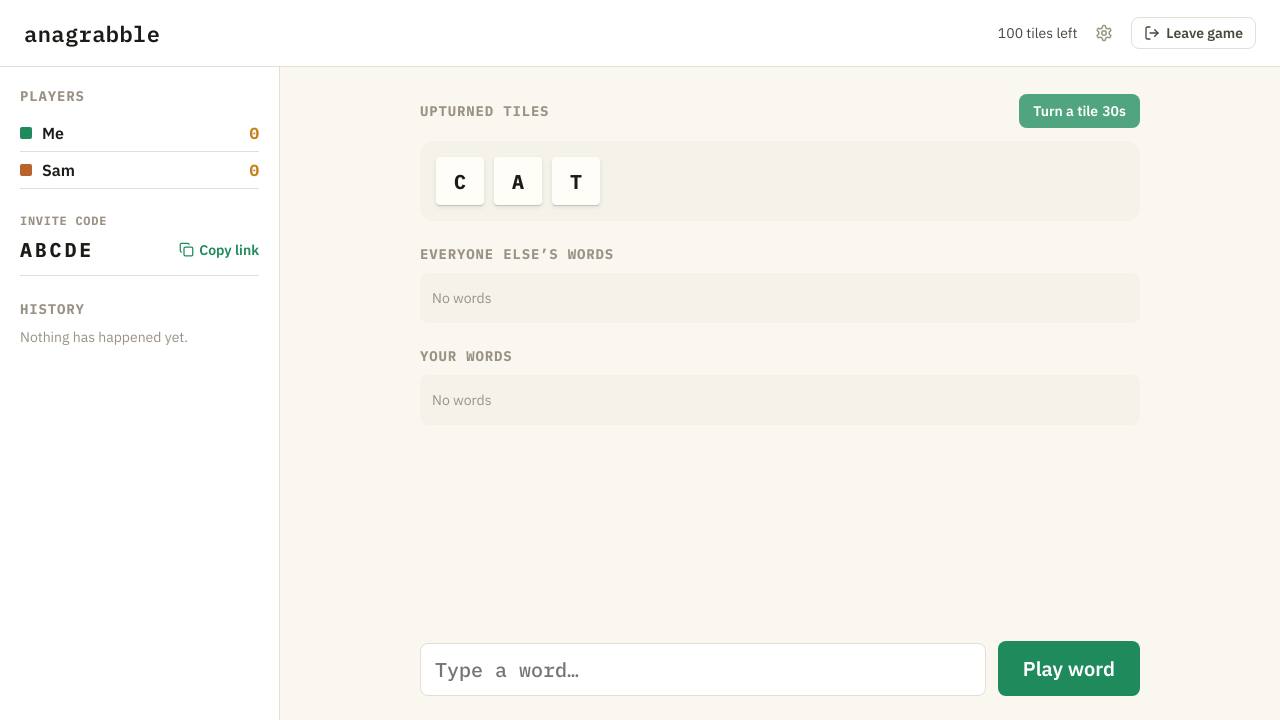
it: GameBoard › settings modal (desktop) › hides the your-settings section while the player's settings haven't loaded
What coordinates should you click on to do the following:
click the button named "Settings"
I would click on:
 (1104, 33)
Its box is [1083,12,1125,54].
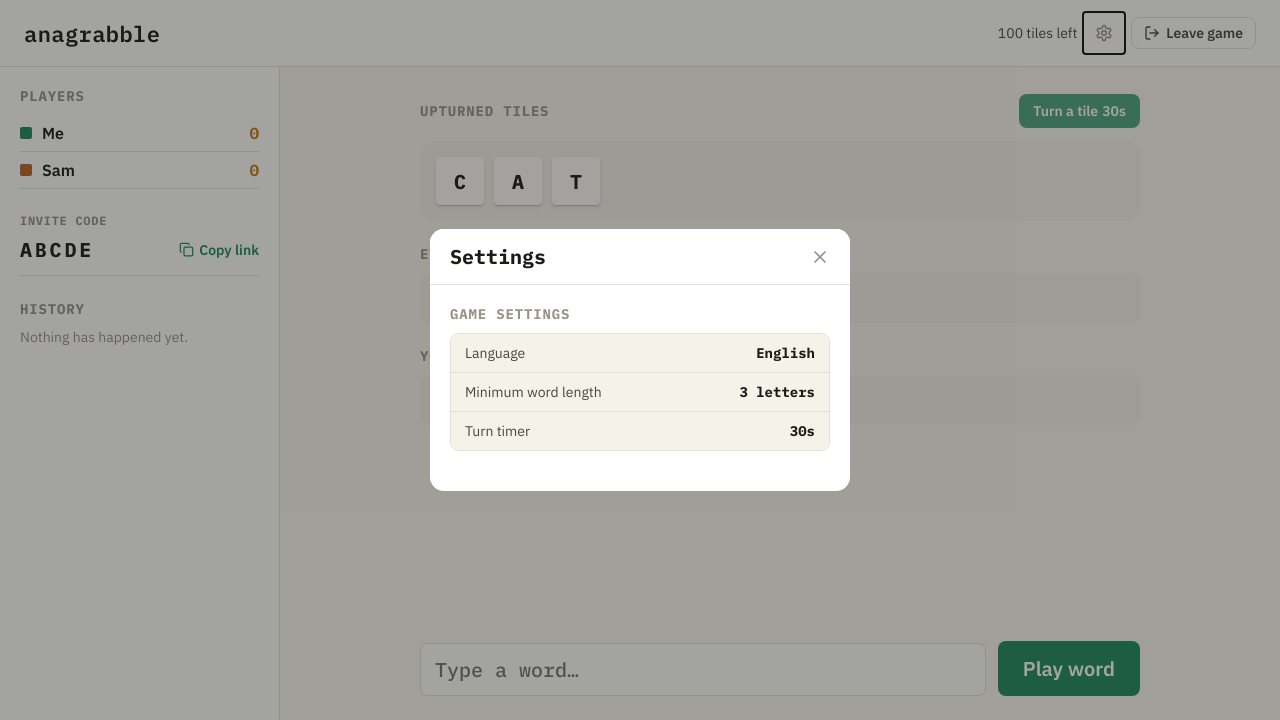
Expected: the text "Game settings" is shown, [450,305,570,323]
